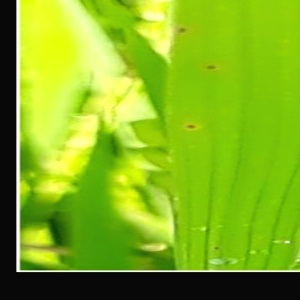Bacterial_Leaf_Blight: (178, 116, 205, 136), (245, 246, 274, 258), (200, 59, 220, 75), (172, 22, 193, 36), (271, 235, 295, 247), (209, 243, 222, 253)
